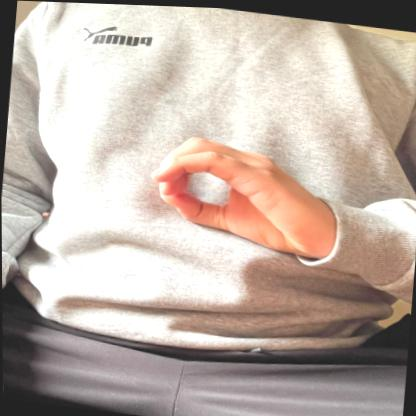O: (146, 113, 334, 256)
